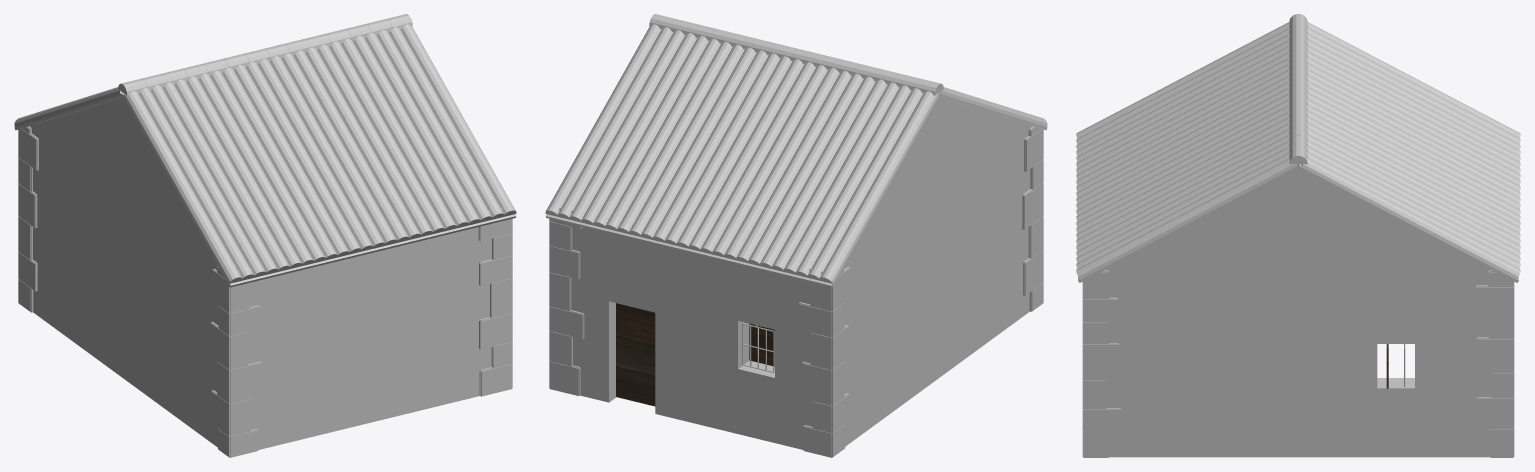
The model's file is casa_small_b.gltf.
3 views of the same model, side by side, from view 1: azimuth 30°, elevation 25°; view 2: azimuth 150°, elevation 25°; view 3: azimuth 270°, elevation 25° (orthographic).
Parts seen in each view (by area): view 1: casa_small_b_shell, casa_small_b_roof_tile_b_0, casa_small_b_roof_tile_b_23, casa_small_b_roof_tile_b_12, casa_small_b_roof_tile_b_5, casa_small_b_roof_tile_b_16, casa_small_b_roof_tile_b_22, casa_small_b_roof_tile_b_11, casa_small_b_roof_tile_b_3, casa_small_b_roof_tile_b_8, casa_small_b_roof_tile_b_10, casa_small_b_roof_tile_b_13 (+29 smaller); view 2: casa_small_b_shell, casa_small_b_front_door0, casa_small_b_roof_tile_a_23, casa_small_b_roof_tile_a_0, casa_small_b_roof_tile_a_11, casa_small_b_roof_tile_a_5, casa_small_b_roof_tile_a_12, casa_small_b_roof_tile_a_16, casa_small_b_roof_tile_a_1, casa_small_b_roof_tile_a_3, casa_small_b_roof_tile_a_7, casa_small_b_roof_tile_a_8 (+33 smaller); view 3: casa_small_b_shell, casa_small_b_roof_tile_a_0, casa_small_b_roof_tile_b_23, casa_small_b_quoin_2.8_-3.7_q3, casa_small_b_roof_tile_a_10, casa_small_b_roof_tile_b_13, casa_small_b_roof_tile_a_2, casa_small_b_roof_tile_a_12, casa_small_b_roof_tile_a_15, casa_small_b_roof_tile_a_20, casa_small_b_roof_tile_b_3, casa_small_b_roof_tile_b_8 (+50 smaller).
Part boxes in pixels (bbox=[...]): casa_small_b_shell: bbox=[14, 93, 516, 449]; casa_small_b_roof_tile_b_0: bbox=[123, 91, 242, 283]; casa_small_b_roof_tile_b_23: bbox=[400, 24, 516, 216]; casa_small_b_roof_tile_b_12: bbox=[269, 56, 385, 248]; casa_small_b_roof_tile_b_5: bbox=[186, 76, 301, 269]; casa_small_b_roof_tile_b_16: bbox=[317, 44, 433, 237]; casa_small_b_roof_tile_b_22: bbox=[388, 27, 504, 219]; casa_small_b_roof_tile_b_11: bbox=[257, 59, 373, 251]; casa_small_b_roof_tile_b_3: bbox=[162, 82, 278, 274]; casa_small_b_roof_tile_b_8: bbox=[222, 67, 337, 260]; casa_small_b_roof_tile_b_10: bbox=[245, 62, 361, 254]; casa_small_b_roof_tile_b_13: bbox=[281, 53, 397, 245]; casa_small_b_shell: bbox=[545, 93, 1047, 449]; casa_small_b_front_door0: bbox=[616, 303, 655, 406]; casa_small_b_roof_tile_a_23: bbox=[819, 91, 938, 283]; casa_small_b_roof_tile_a_0: bbox=[545, 24, 661, 216]; casa_small_b_roof_tile_a_11: bbox=[676, 56, 792, 248]; casa_small_b_roof_tile_a_5: bbox=[605, 38, 720, 231]; casa_small_b_roof_tile_a_12: bbox=[688, 59, 804, 251]; casa_small_b_roof_tile_a_16: bbox=[736, 70, 851, 263]; casa_small_b_roof_tile_a_1: bbox=[557, 27, 673, 219]; casa_small_b_roof_tile_a_3: bbox=[581, 33, 697, 225]; casa_small_b_roof_tile_a_7: bbox=[629, 44, 744, 237]; casa_small_b_roof_tile_a_8: bbox=[641, 47, 756, 239]; casa_small_b_shell: bbox=[1078, 164, 1518, 457]; casa_small_b_roof_tile_a_0: bbox=[1301, 158, 1520, 279]; casa_small_b_roof_tile_b_23: bbox=[1076, 158, 1295, 279]; casa_small_b_quoin_2.8_-3.7_q3: bbox=[1082, 343, 1119, 381]; casa_small_b_roof_tile_a_10: bbox=[1307, 98, 1520, 215]; casa_small_b_roof_tile_b_13: bbox=[1076, 98, 1289, 215]; casa_small_b_roof_tile_a_2: bbox=[1307, 146, 1520, 262]; casa_small_b_roof_tile_a_12: bbox=[1307, 87, 1520, 203]; casa_small_b_roof_tile_a_15: bbox=[1307, 69, 1520, 185]; casa_small_b_roof_tile_a_20: bbox=[1307, 39, 1520, 156]; casa_small_b_roof_tile_b_3: bbox=[1076, 39, 1289, 156]; casa_small_b_roof_tile_b_8: bbox=[1076, 69, 1289, 185].
Bounding box in the file's own units: 6.24 × 6.16 × 8.2.
